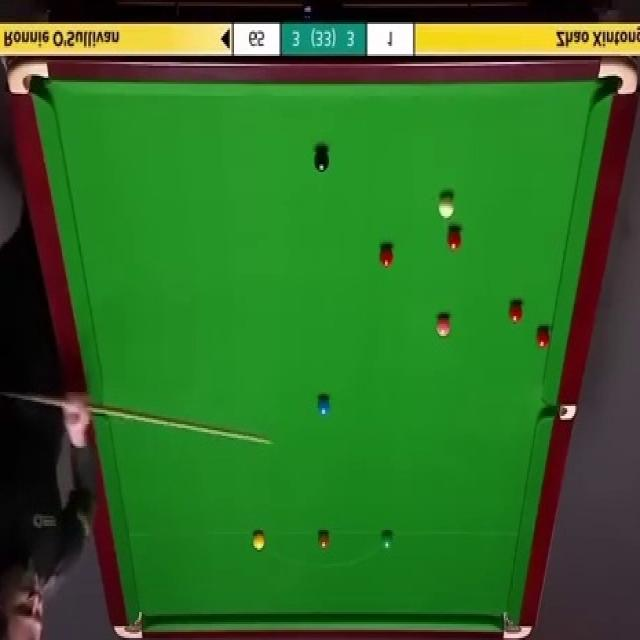pocket: (598, 57, 638, 96), (6, 61, 49, 96), (112, 610, 144, 640), (502, 608, 533, 638), (542, 399, 576, 418)
